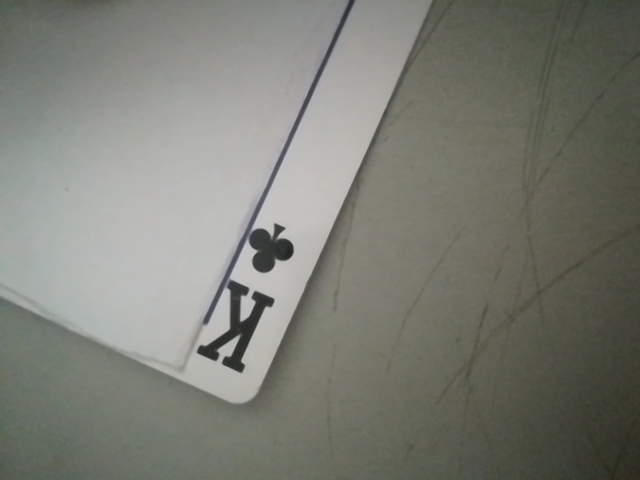mh k: (188, 215, 307, 390)
